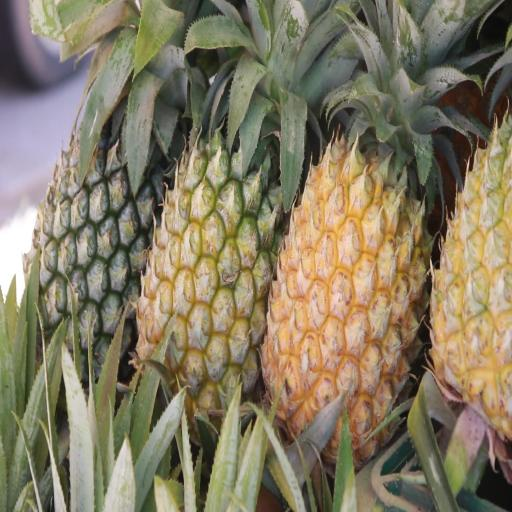------------------------------: (132, 51, 290, 434)
Pineapple - v8 v1: (259, 45, 434, 485), (424, 8, 512, 434)
